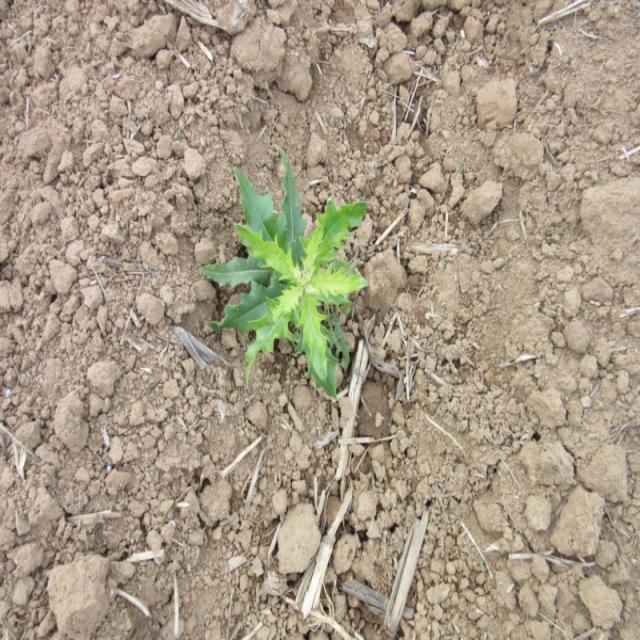cs: (199, 151, 372, 401)
